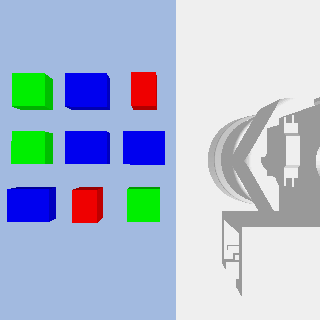large: (122, 130, 165, 164), (63, 130, 106, 164), (4, 191, 47, 224), (63, 70, 106, 103)
medium: (8, 130, 43, 164), (8, 70, 43, 103), (126, 191, 160, 224)
small: (69, 191, 99, 224), (128, 70, 158, 103)
